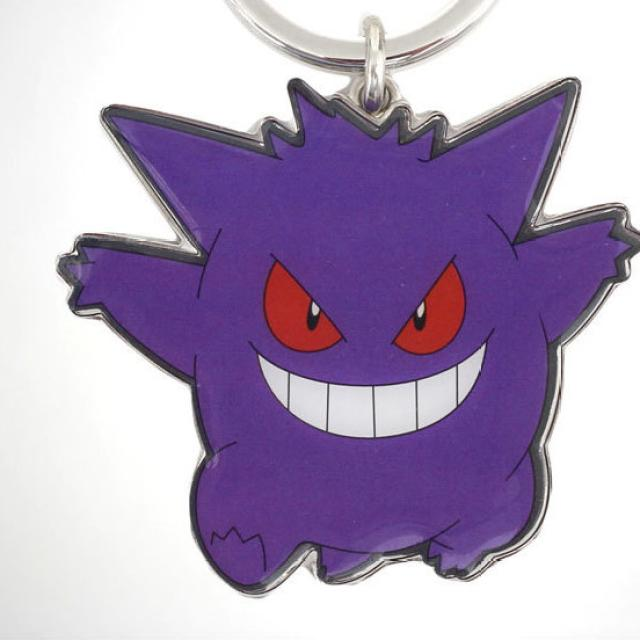Gengar: (96, 90, 603, 590)
